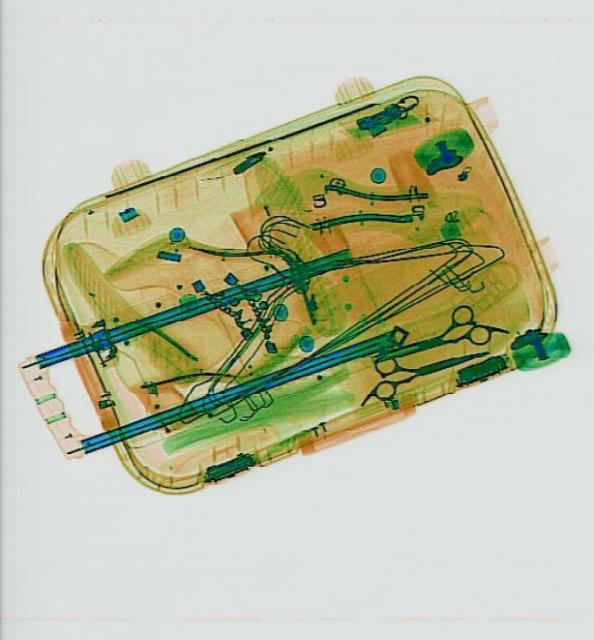Scissors: (359, 296, 492, 376), (361, 332, 492, 400)
